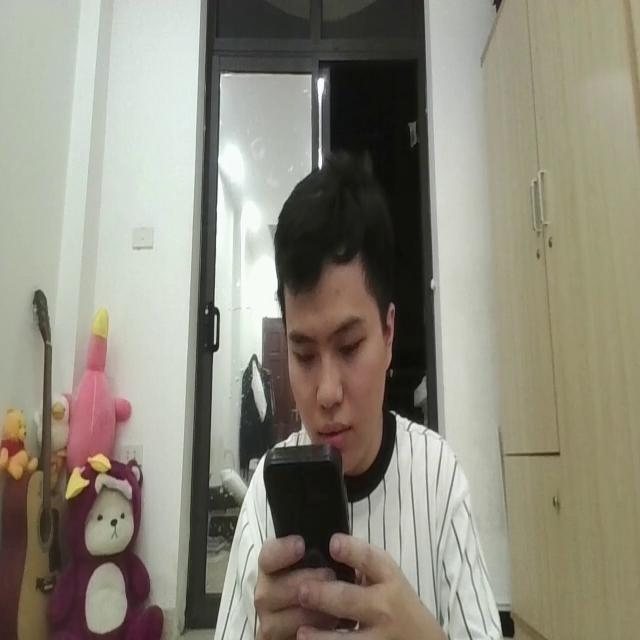phone: (263, 438, 361, 630)
student: (214, 146, 503, 640)
